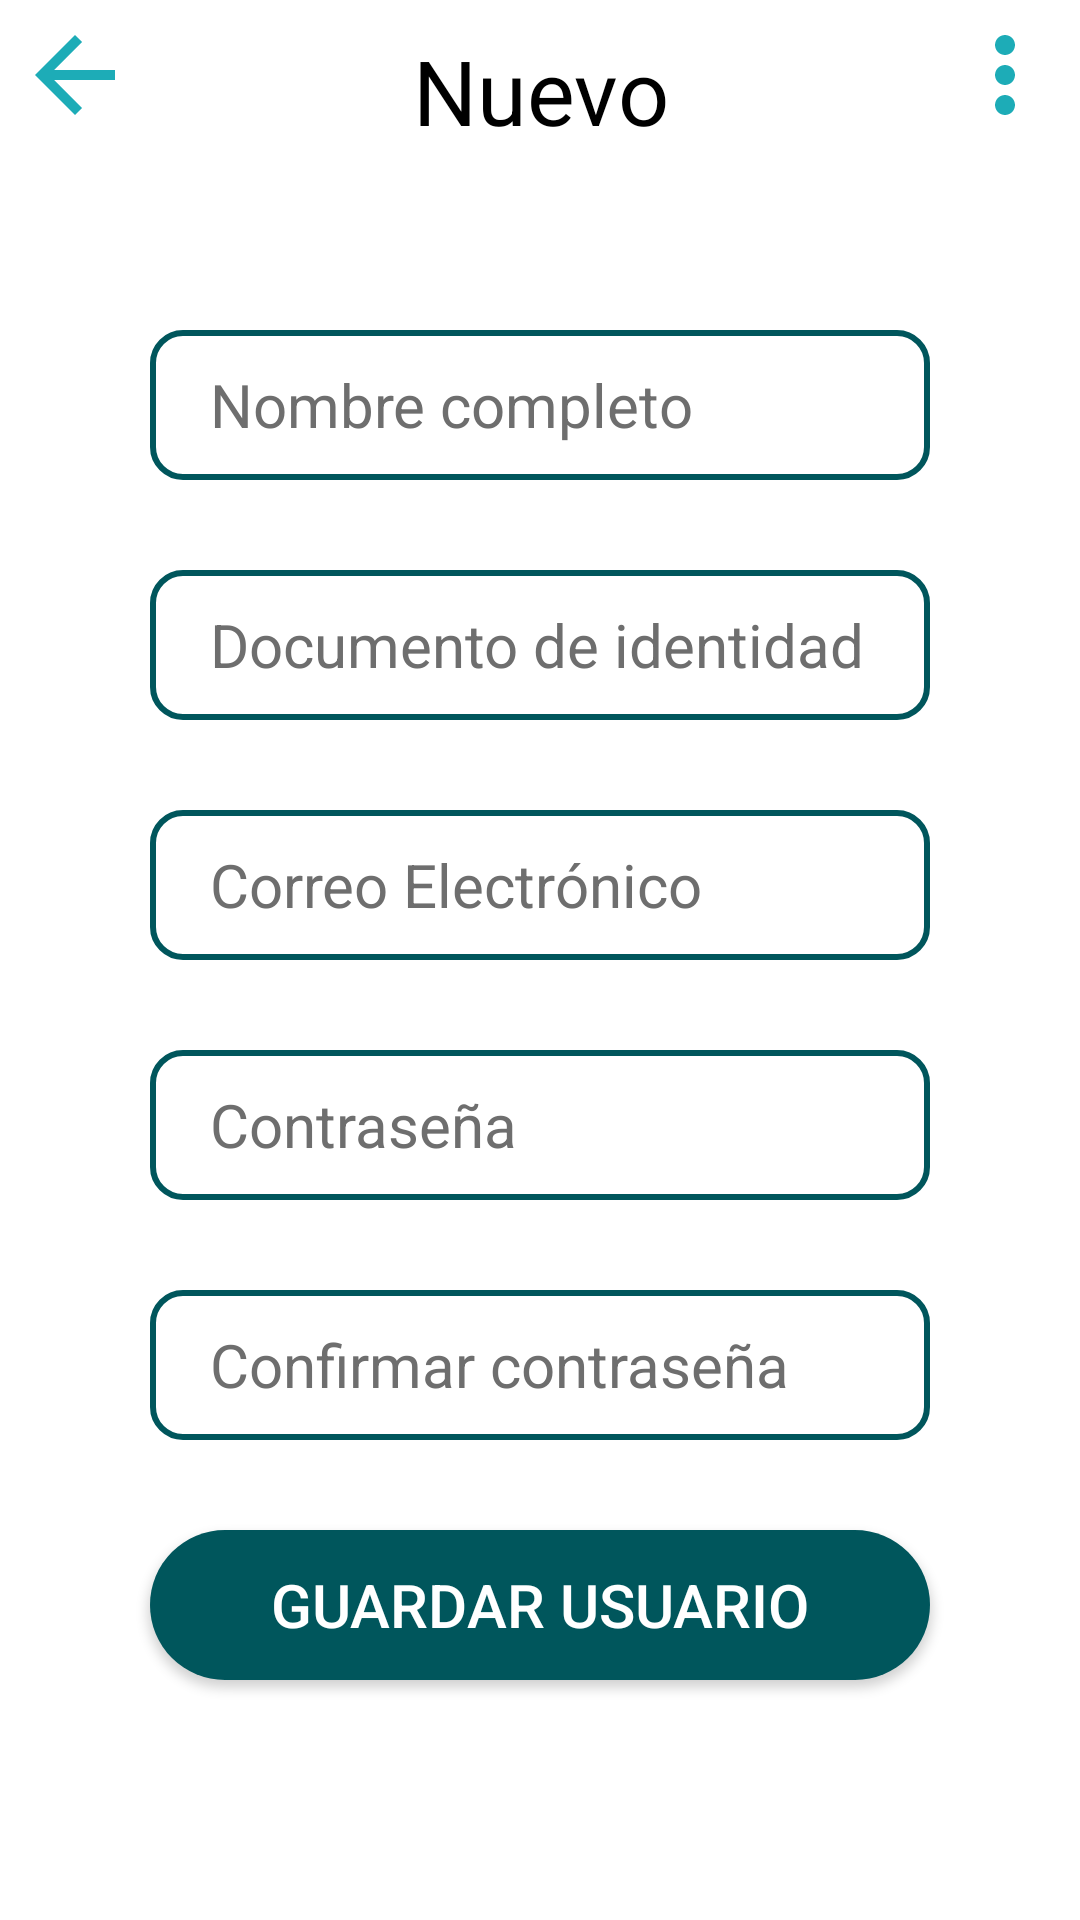

Where to tap for icons on this 1080*1920 app screen, as [x,y]:
arrow: [75,75]
points: [1005,75]
